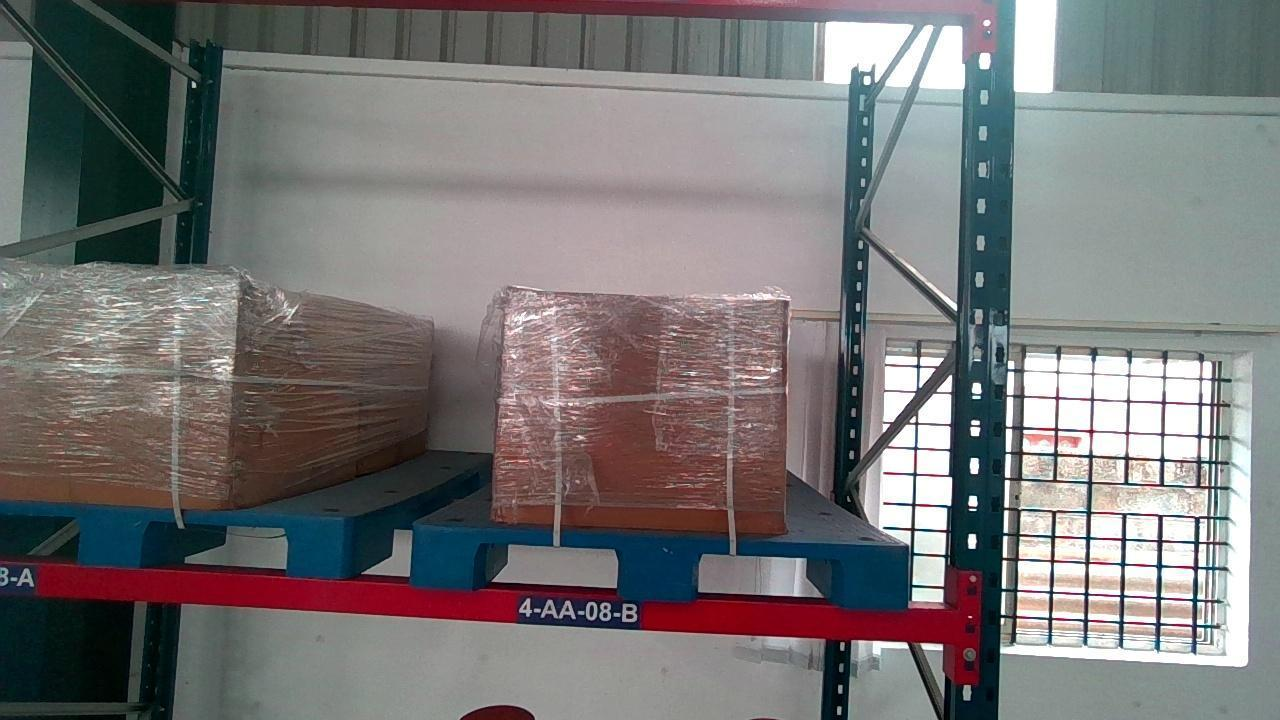h_rack: (0, 568, 967, 636)
small_pallet: (412, 531, 906, 600), (0, 502, 351, 575)
